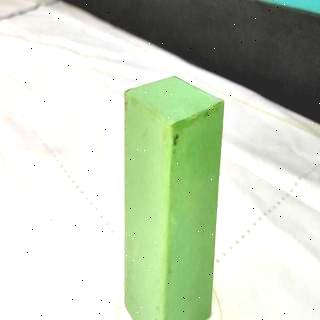greenbox: (121, 73, 226, 320)
